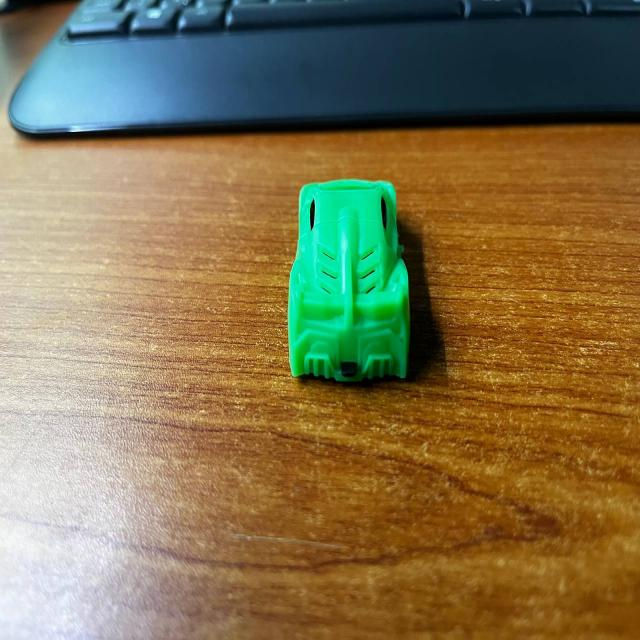car: (273, 164, 425, 394)
